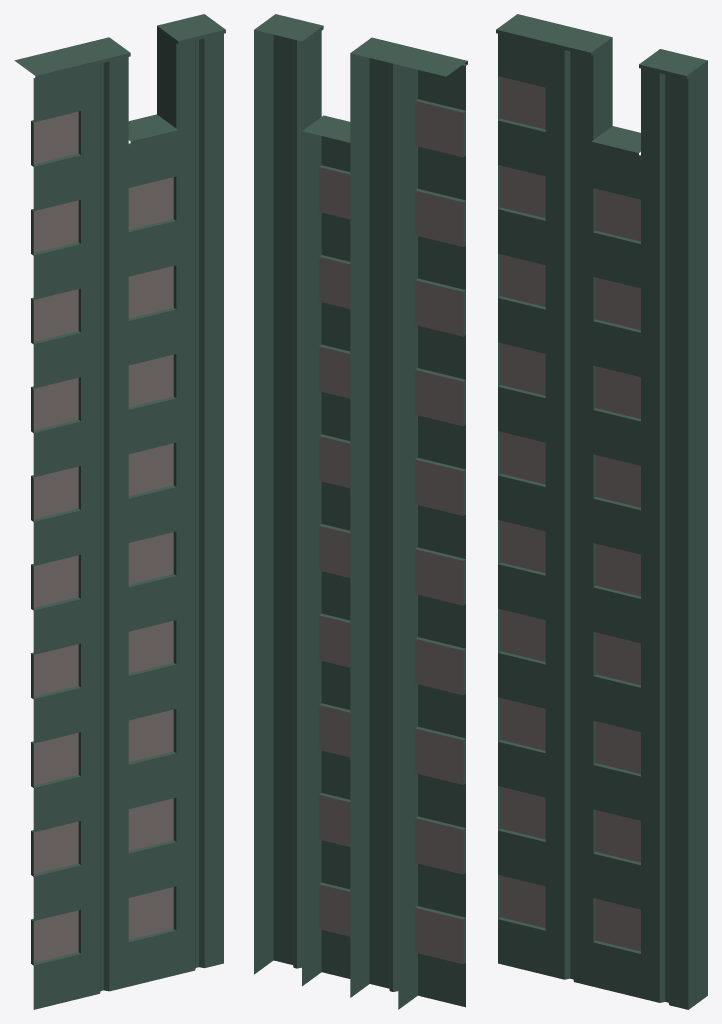
3 views of the same model, side by side, from view 1: azimuth 30°, elevation 25°; view 2: azimuth 150°, elevation 25°; view 3: azimuth 330°, elevation 25° (orthographic).
Visible parts, largest first — view 1: Column.030; view 2: Column.030; view 3: Column.030.
Part boxes in pixels (x1=…): Column.030: x1=14, y1=14, x2=225, y2=1009; Column.030: x1=254, y1=14, x2=467, y2=1009; Column.030: x1=496, y1=14, x2=707, y2=1009.
Size of the model in its own units: 1114 by 5230 by 217.
